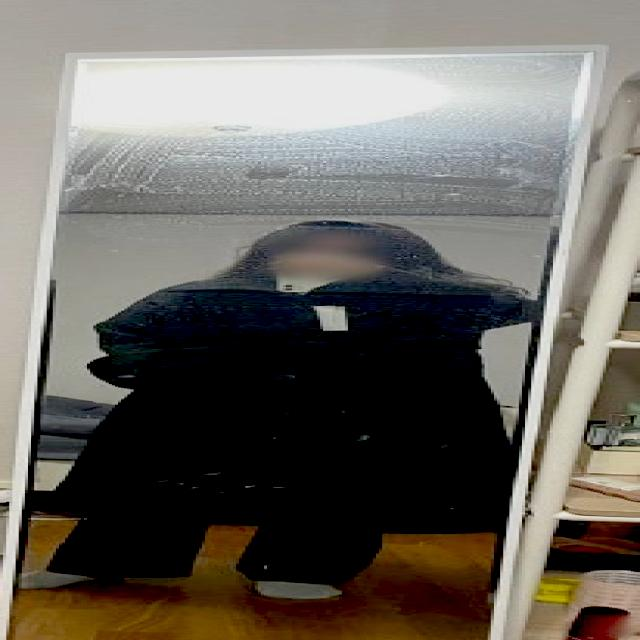coat: (42, 267, 528, 534)
slacks: (49, 518, 394, 584)
